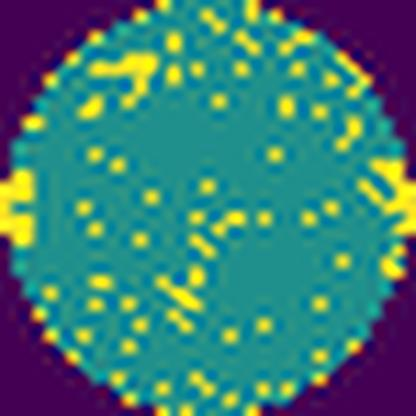Edge-Loc: (357, 154, 416, 237), (0, 165, 40, 251)
